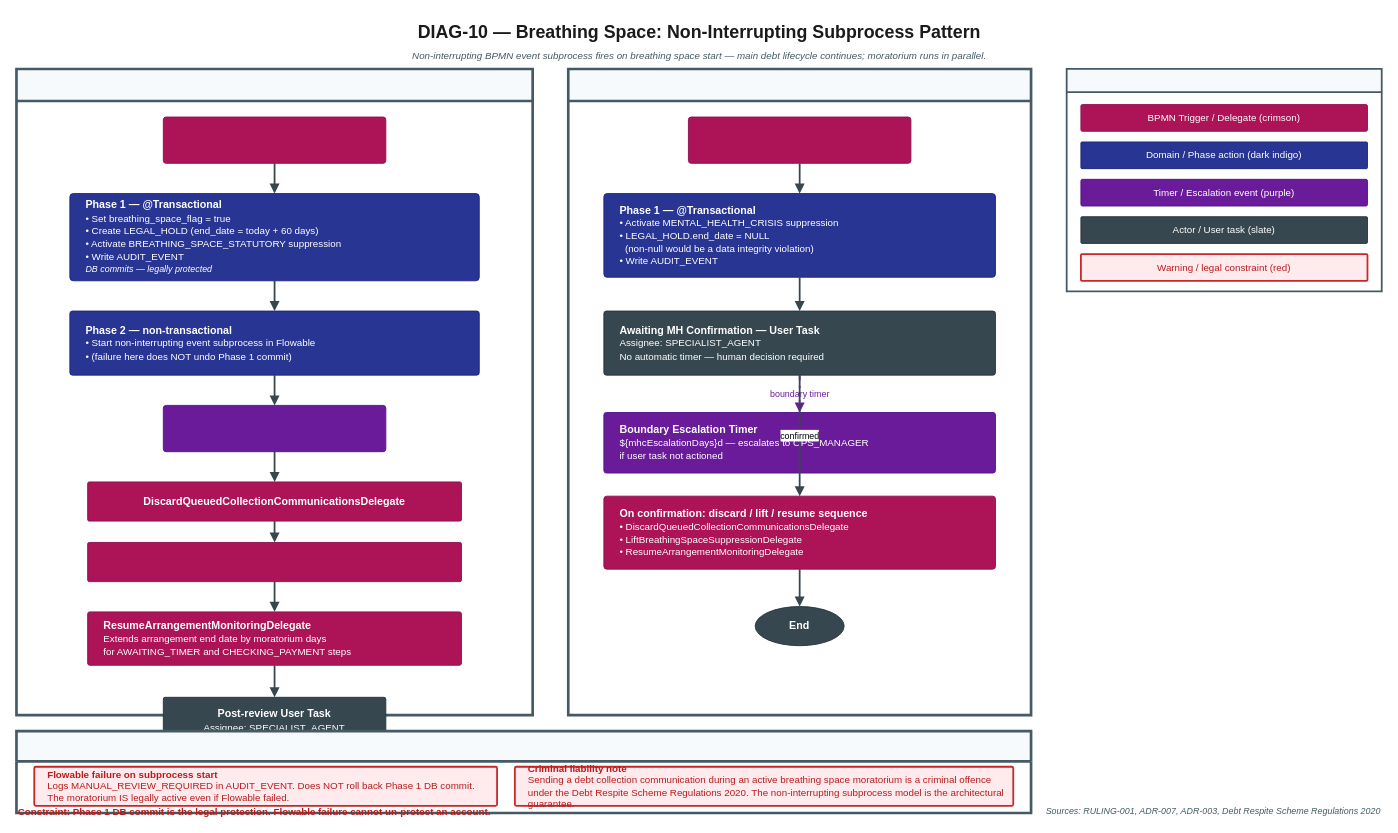
Image size: 1398x833. Some labels were removed from this diagram. Here are the shapes that lost their labels. From the top down, the box of each, then its label:
(162, 116, 386, 163): BREATHING_SPACE_START message received
(688, 116, 911, 163): BREATHING_SPACE_START (MH crisis variant)
(1065, 68, 1382, 292): Legend
(15, 67, 534, 716): STANDARD Breathing Space (60-day moratorium)
(566, 67, 1032, 716): MENTAL_HEALTH_CRISIS Path (open-ended moratorium)
(162, 405, 386, 452): Intermediate Timer Catch Event waits for ${breathingSpaceEndDateISO}
(87, 542, 461, 582): LiftBreathingSpaceSuppressionDelegate
(15, 729, 1032, 814): Transaction Boundary Rule
